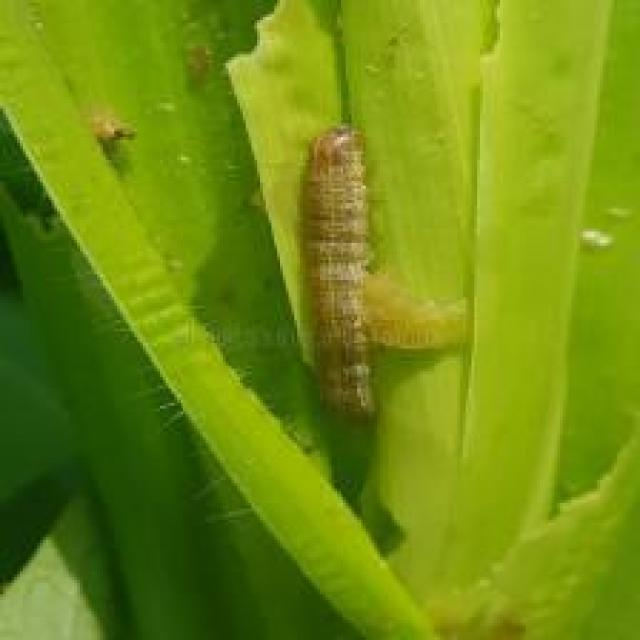pest: (305, 126, 390, 409)
